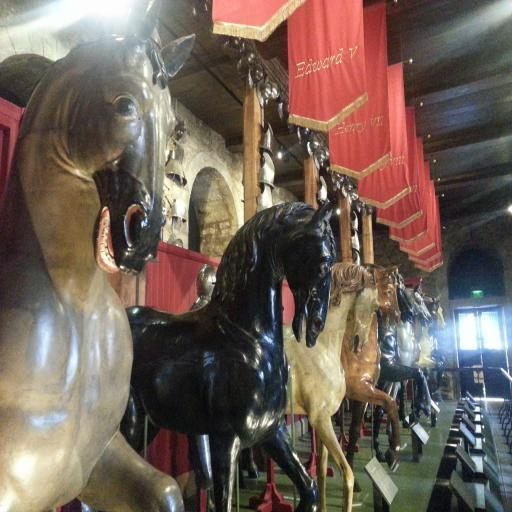horse: (0, 0, 186, 512), (120, 203, 336, 512), (276, 262, 402, 508), (280, 256, 380, 512), (336, 268, 438, 488), (378, 283, 440, 472), (418, 291, 453, 420)
